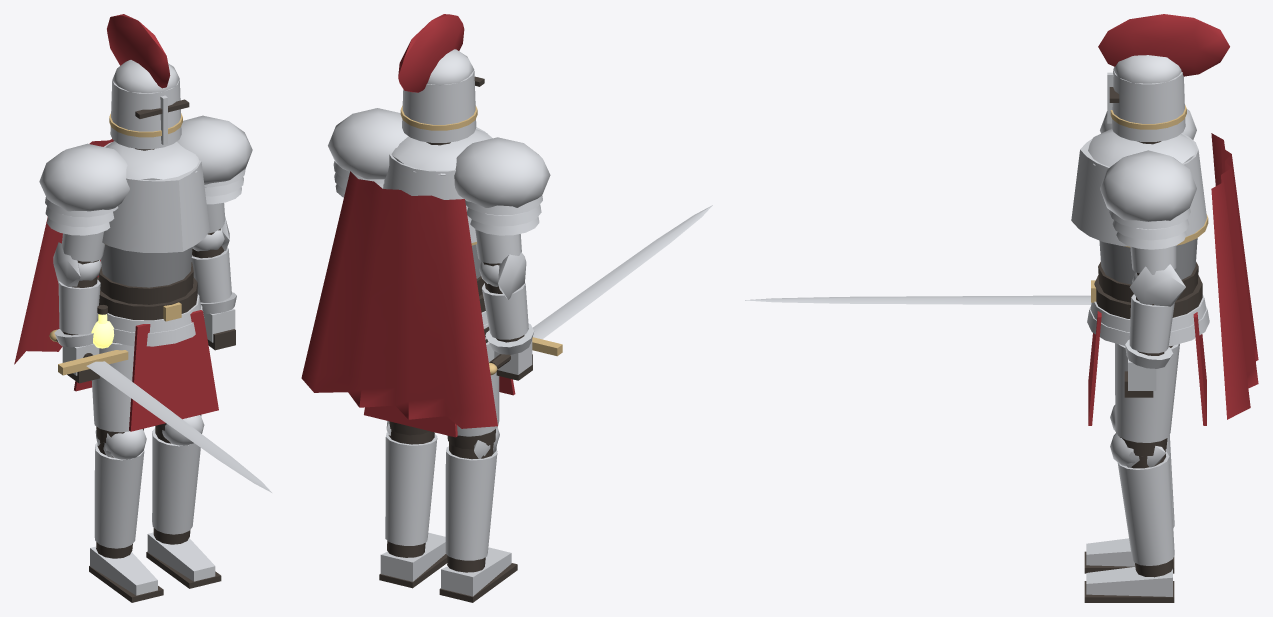
Rendered from warrior.glb.
The picture shows the model from 3 angles, left to right: view 1: azimuth 30°, elevation 25°; view 2: azimuth 150°, elevation 25°; view 3: azimuth 270°, elevation 25°; orthographic projection. The views are drawn at different scales.
Visible parts, largest first — view 1: w_hips, w_chest, w_head, w_shoulder_R, w_shin_R, w_shin_L, w_shoulder_L, cape, sword, w_forearm_R, w_spine, w_thigh_R (+8 smaller); view 2: cape, w_head, w_shoulder_R, w_shin_R, w_shin_L, w_shoulder_L, w_chest, w_forearm_R, sword, w_foot_R, w_foot_L, w_hips (+3 smaller); view 3: w_head, cape, w_shoulder_L, w_chest, w_shin_L, w_hips, w_thigh_L, w_forearm_L, w_foot_L, sword, w_spine, w_hand_L (+2 smaller).
Part boxes in pixels (x1=…): w_hips: x1=74, y1=262, x2=218, y2=431; w_chest: x1=102, y1=141, x2=209, y2=252; w_head: x1=107, y1=14, x2=189, y2=149; w_shoulder_R: x1=39, y1=143, x2=129, y2=235; w_shin_R: x1=94, y1=429, x2=146, y2=558; w_shin_L: x1=152, y1=415, x2=204, y2=544; w_shoulder_L: x1=177, y1=115, x2=252, y2=204; cape: x1=14, y1=139, x2=113, y2=364; sword: x1=49, y1=329, x2=271, y2=492; w_forearm_R: x1=53, y1=242, x2=101, y2=335; w_spine: x1=101, y1=244, x2=192, y2=287; w_thigh_R: x1=92, y1=342, x2=143, y2=442; cape: x1=301, y1=171, x2=497, y2=428; w_head: x1=398, y1=14, x2=484, y2=142; w_shoulder_R: x1=454, y1=137, x2=550, y2=235; w_shin_R: x1=445, y1=427, x2=499, y2=572; w_shin_L: x1=385, y1=421, x2=437, y2=557; w_shoulder_L: x1=328, y1=108, x2=408, y2=197; w_chest: x1=383, y1=127, x2=492, y2=245; w_forearm_R: x1=479, y1=252, x2=528, y2=342; sword: x1=488, y1=205, x2=712, y2=375; w_foot_R: x1=439, y1=547, x2=517, y2=602; w_foot_L: x1=379, y1=533, x2=447, y2=588; w_hips: x1=364, y1=276, x2=515, y2=437; w_head: x1=1098, y1=14, x2=1229, y2=141; cape: x1=1211, y1=133, x2=1258, y2=419; w_shoulder_L: x1=1100, y1=150, x2=1196, y2=249; w_chest: x1=1071, y1=129, x2=1208, y2=247; w_shin_L: x1=1110, y1=433, x2=1174, y2=577; w_hips: x1=1087, y1=261, x2=1209, y2=425; w_thigh_L: x1=1115, y1=343, x2=1179, y2=456; w_forearm_L: x1=1129, y1=264, x2=1185, y2=355; w_foot_L: x1=1084, y1=567, x2=1174, y2=602; sword: x1=745, y1=295, x2=1091, y2=304; w_spine: x1=1099, y1=238, x2=1197, y2=284; w_hand_L: x1=1124, y1=339, x2=1173, y2=397.
Bounding box in the file's own units: 0.7625 × 1.99 × 1.64.
